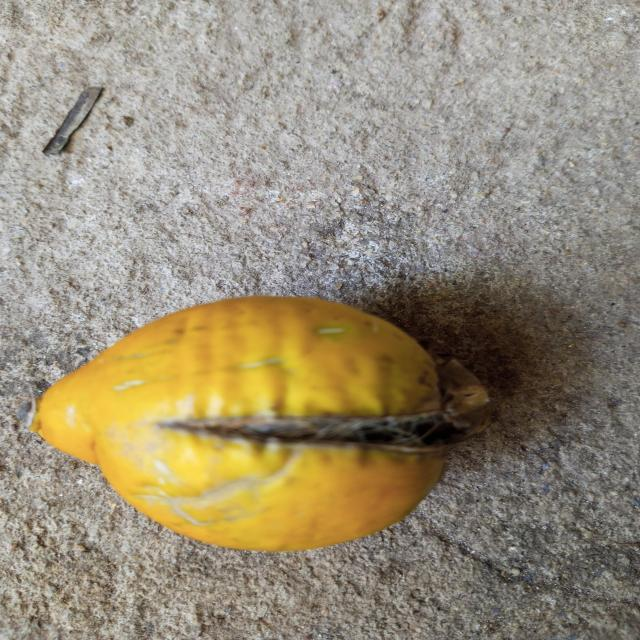damaged: (20, 296, 491, 551)
